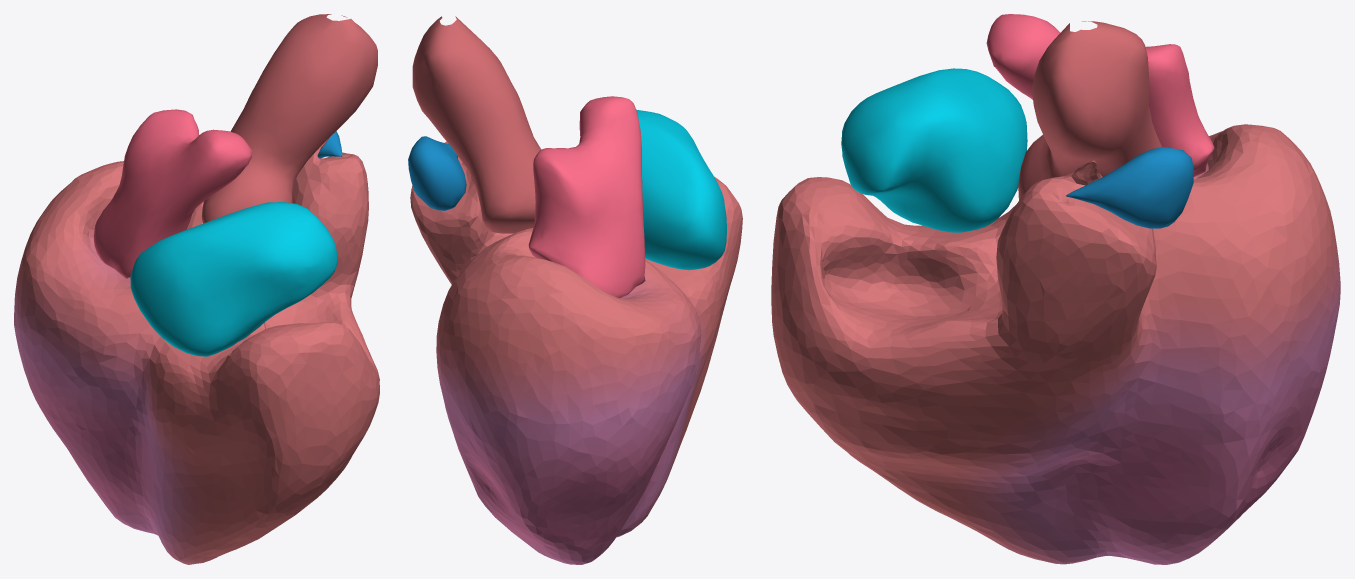
Rendered from frame_69.glb.
3 renders of one model, left to right at view 1: azimuth 30°, elevation 25°; view 2: azimuth 150°, elevation 25°; view 3: azimuth 270°, elevation 25°, orthographic. The views are drawn at different scales.
Parts seen in each view (by area): view 1: Renderer Node; view 2: Renderer Node; view 3: Renderer Node.
Boxes of the visible parts, x1,y1,x2,y2 form: Renderer Node: (14,14,379,564); Renderer Node: (408,16,742,564); Renderer Node: (771,14,1340,564).
Size of the model in its own units: 102 by 159 by 128.
